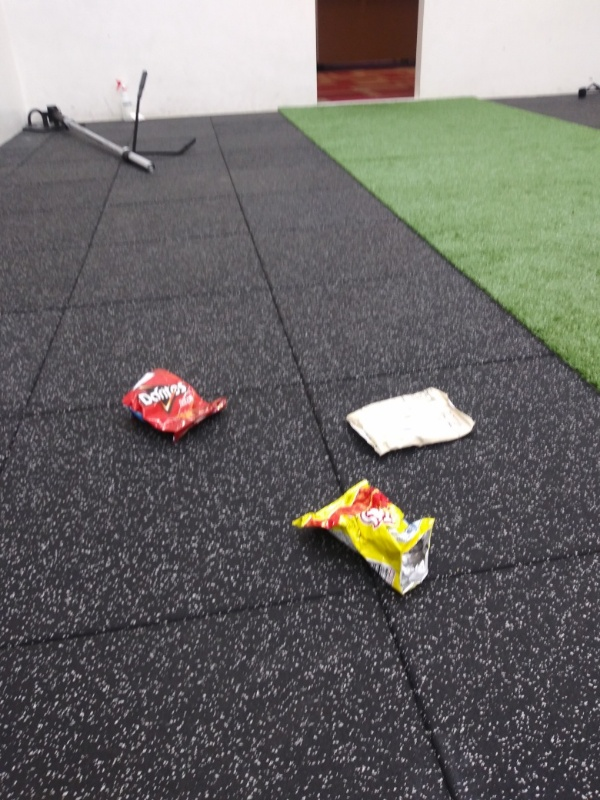bag: (281, 473, 439, 601), (334, 384, 481, 464), (109, 363, 234, 444)
